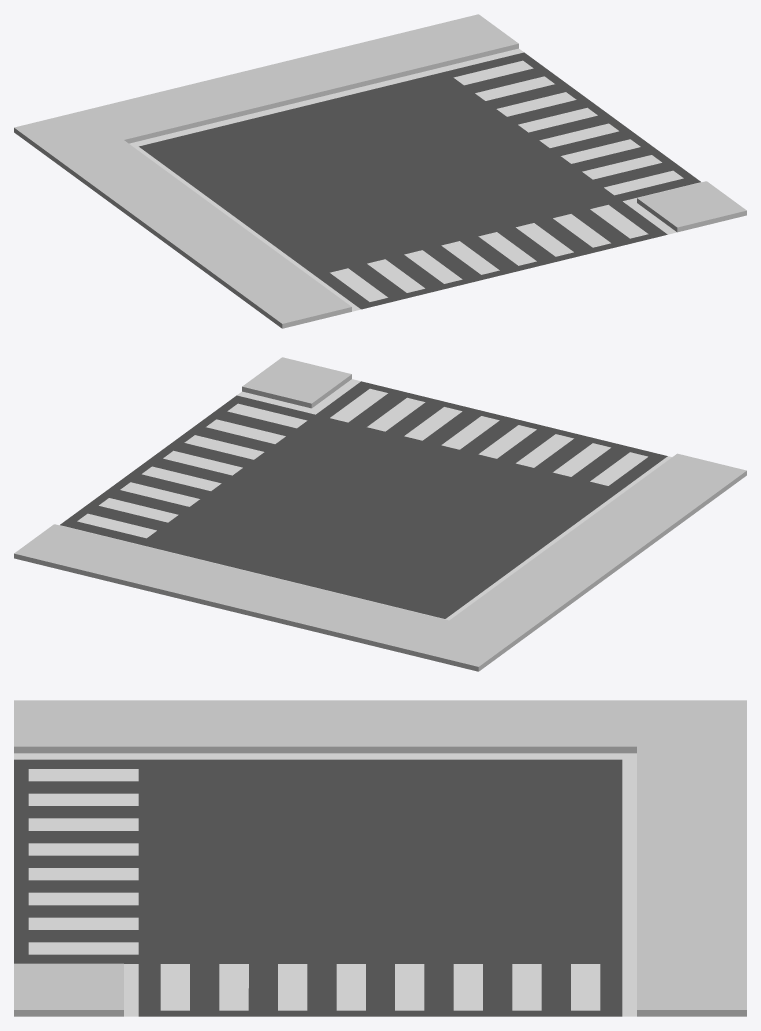
File: road-corner-01.glb
3 renders of one model, top to bottom at view 1: azimuth 30°, elevation 25°; view 2: azimuth 150°, elevation 25°; view 3: azimuth 270°, elevation 25°, orthographic. The views are drawn at different scales.
Parts seen in each view (by area): view 1: model; view 2: model; view 3: model.
Part boxes in pixels (bbox=[...]): model: bbox=[14, 14, 746, 328]; model: bbox=[14, 357, 746, 671]; model: bbox=[14, 700, 746, 1016].
Bounding box in the file's own units: 20 × 0.2 × 20.
1 material, 1 textured.
